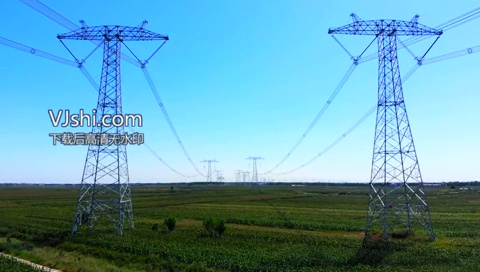tower_body: (323, 4, 455, 247)
tower_foot: (364, 170, 436, 244), (74, 181, 138, 233)
tower_head: (56, 14, 173, 45), (326, 9, 450, 38)
